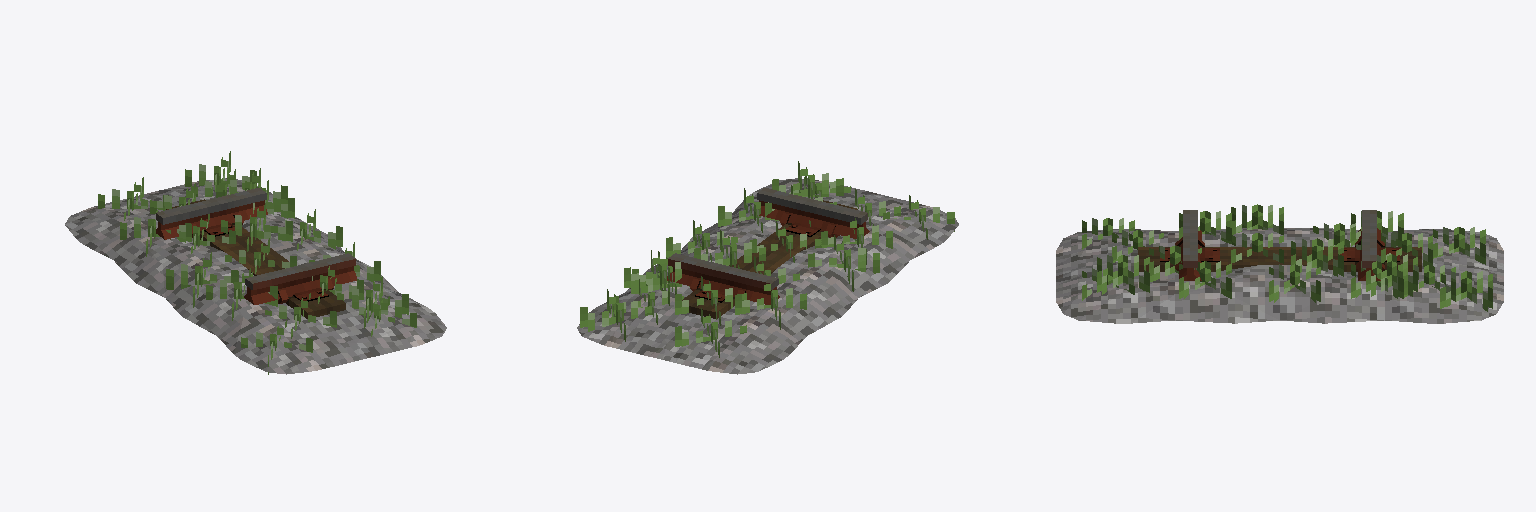
The picture shows the model from 3 angles: view 1: azimuth 30°, elevation 25°; view 2: azimuth 150°, elevation 25°; view 3: azimuth 270°, elevation 25°; orthographic projection.
Parts seen in each view (by area): view 1: RAIL_BASE.001_Plane.011, RAIL_BASE.003_Plane.001, RAIL_BASE_Cube_Cube.001, RAIL_LEFT_Cube_Cube.002, RAIL_RIGHT_Cube_Cube.003; view 2: RAIL_BASE.001_Plane.011, RAIL_BASE.003_Plane.001, RAIL_BASE_Cube_Cube.001, RAIL_LEFT_Cube_Cube.002, RAIL_RIGHT_Cube_Cube.003; view 3: RAIL_BASE.001_Plane.011, RAIL_BASE.003_Plane.001, RAIL_BASE_Cube_Cube.001, RAIL_LEFT_Cube_Cube.002, RAIL_RIGHT_Cube_Cube.003.
Boxes of the visible parts, x1=… form: RAIL_BASE.001_Plane.011: x1=65, y1=178, x2=446, y2=374; RAIL_BASE.003_Plane.001: x1=98, y1=151, x2=416, y2=374; RAIL_BASE_Cube_Cube.001: x1=166, y1=199, x2=345, y2=318; RAIL_LEFT_Cube_Cube.002: x1=244, y1=253, x2=356, y2=304; RAIL_RIGHT_Cube_Cube.003: x1=156, y1=188, x2=267, y2=239; RAIL_BASE.001_Plane.011: x1=577, y1=178, x2=958, y2=374; RAIL_BASE.003_Plane.001: x1=580, y1=161, x2=954, y2=357; RAIL_BASE_Cube_Cube.001: x1=682, y1=200, x2=857, y2=318; RAIL_LEFT_Cube_Cube.002: x1=757, y1=188, x2=869, y2=238; RAIL_RIGHT_Cube_Cube.003: x1=667, y1=253, x2=779, y2=304; RAIL_BASE.001_Plane.011: x1=1056, y1=228, x2=1503, y2=323; RAIL_BASE.003_Plane.001: x1=1082, y1=204, x2=1492, y2=311; RAIL_BASE_Cube_Cube.001: x1=1138, y1=237, x2=1421, y2=271; RAIL_LEFT_Cube_Cube.002: x1=1179, y1=210, x2=1201, y2=280; RAIL_RIGHT_Cube_Cube.003: x1=1358, y1=210, x2=1380, y2=280.
Size of the model in its own units: 1.88 by 0.5 by 3.75.
Materials: 4 (3 with a texture image).